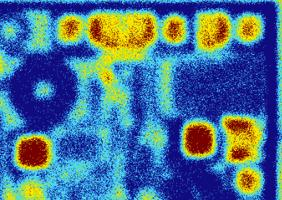Pad 1: (16, 135, 51, 170), (183, 123, 214, 157)
Pad 2: (163, 15, 186, 44), (236, 168, 261, 194), (237, 16, 262, 42), (59, 16, 82, 42)
